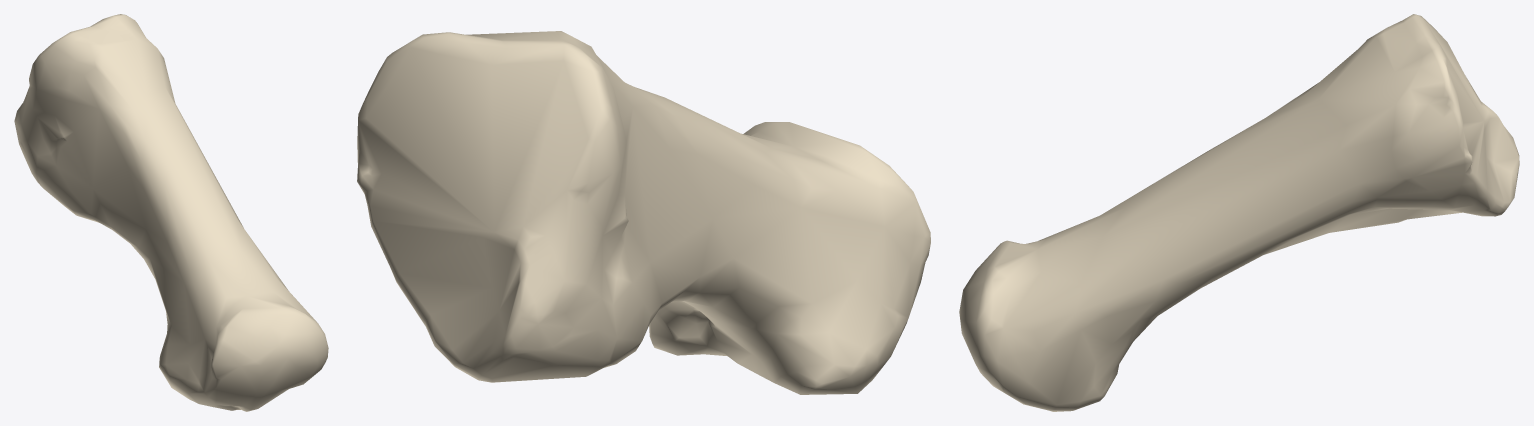
Rendered from first-metatarsal-bone-r.glb.
The picture shows the model from 3 angles, left to right: view 1: azimuth 30°, elevation 25°; view 2: azimuth 150°, elevation 25°; view 3: azimuth 270°, elevation 25°; orthographic projection. The views are drawn at different scales.
Parts seen in each view (by area): view 1: First metatarsal bone.r; view 2: First metatarsal bone.r; view 3: First metatarsal bone.r.
Boxes of the visible parts, bbox=[...] form: First metatarsal bone.r: bbox=[14, 14, 328, 411]; First metatarsal bone.r: bbox=[357, 31, 930, 394]; First metatarsal bone.r: bbox=[959, 14, 1519, 411].
Bounding box in the file's own units: 0.0218 × 0.0449 × 0.0636.
